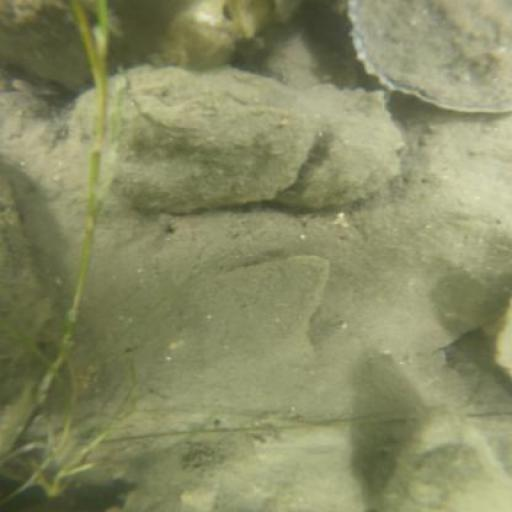Oyster-Closed: (108, 66, 310, 214), (122, 424, 356, 512), (2, 170, 59, 445), (284, 91, 403, 210), (2, 1, 92, 90)
Oyster-Open: (379, 419, 512, 512)
